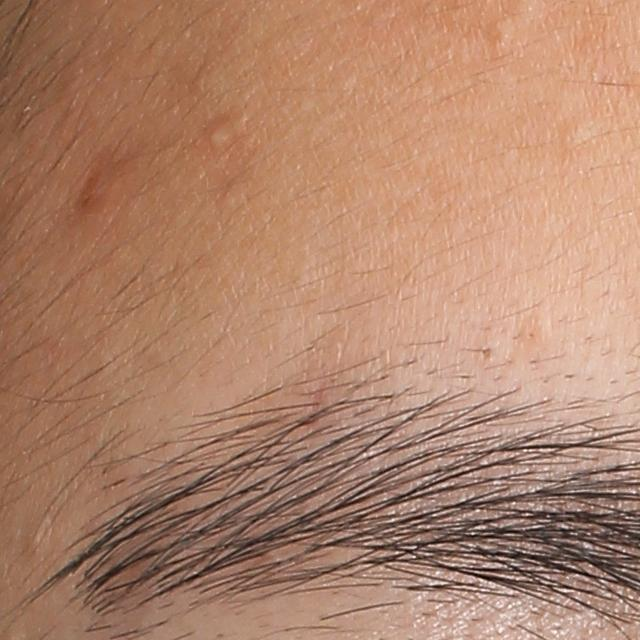comedo: (552, 115, 601, 152), (485, 16, 520, 53), (206, 117, 236, 152)
